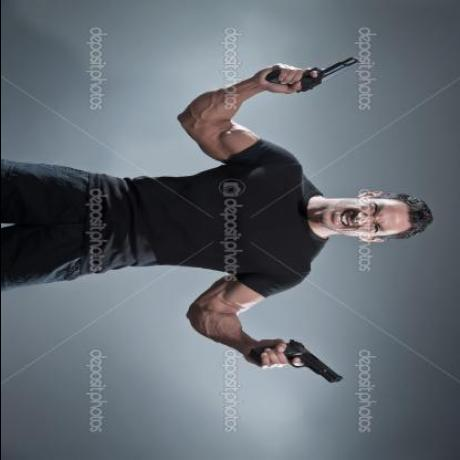1: (0, 60, 435, 370)
weapon: (252, 333, 344, 393), (264, 51, 360, 97)
